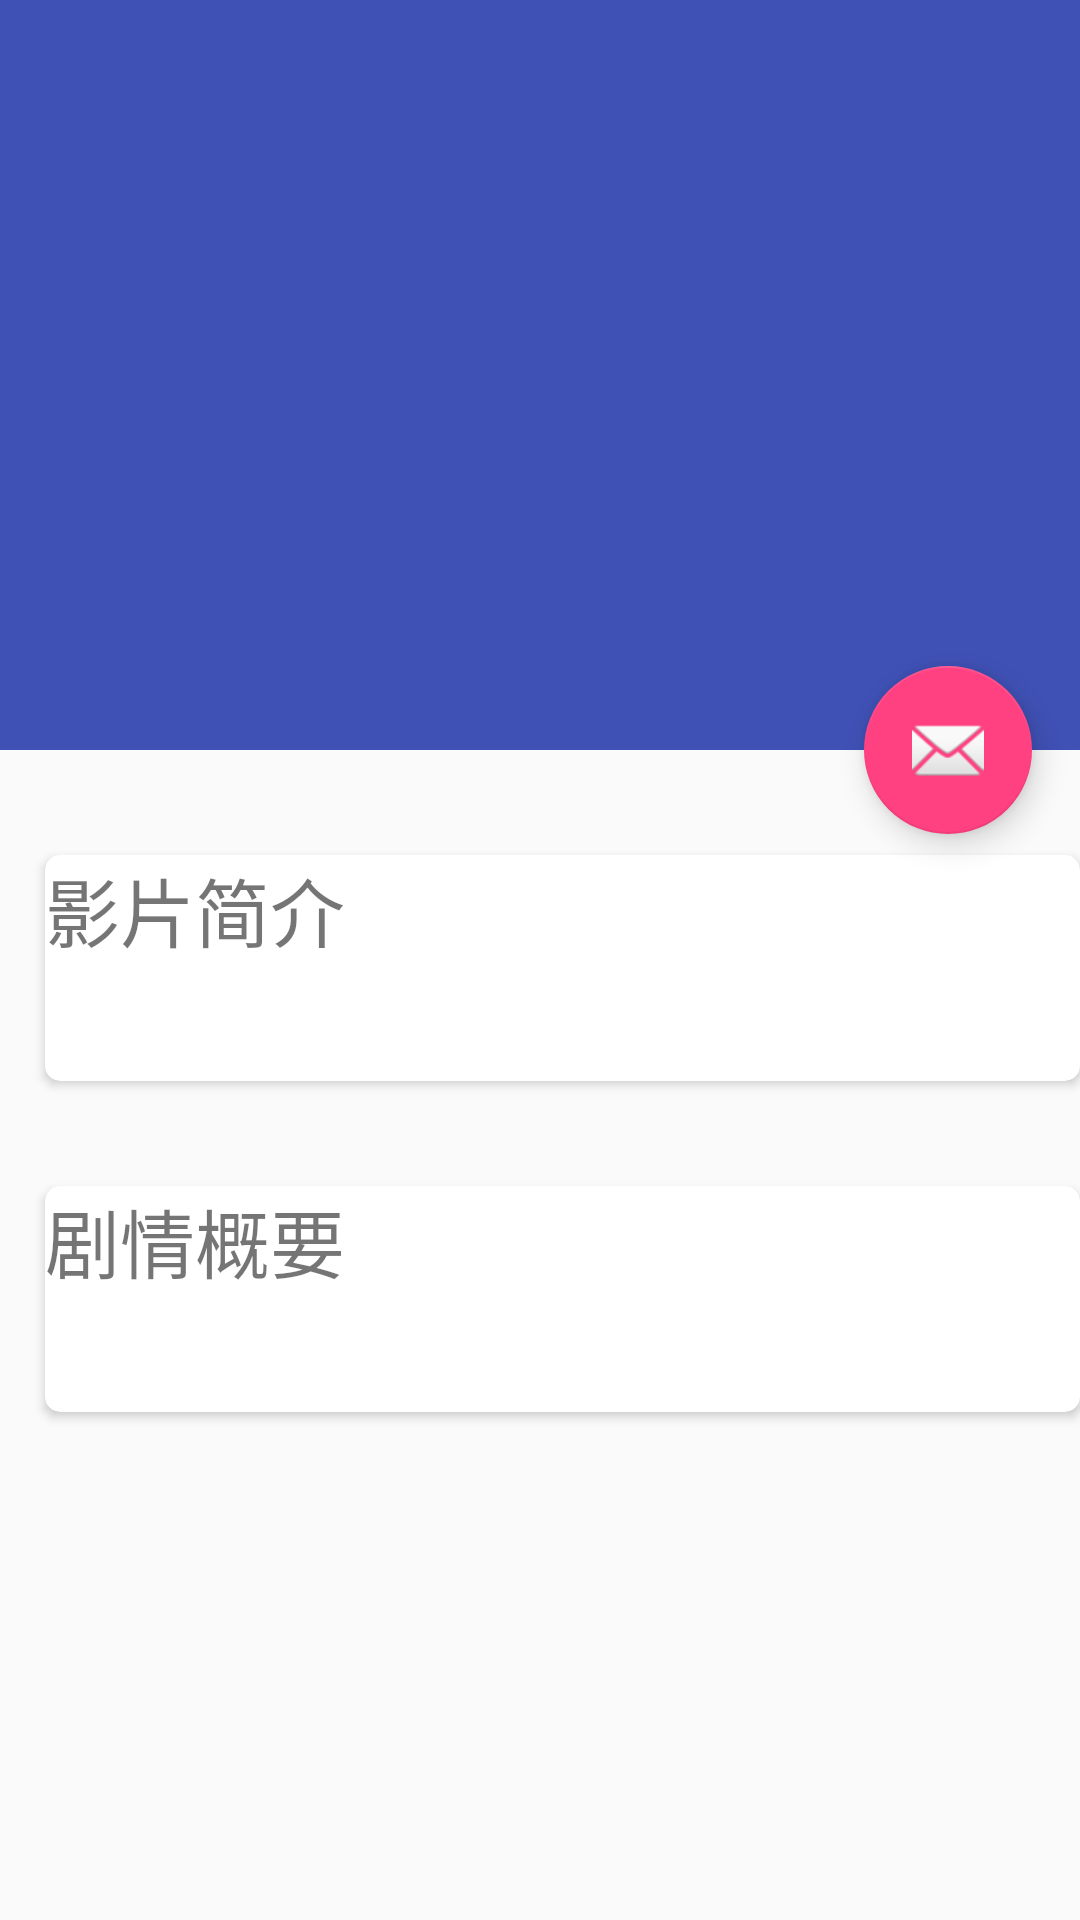

Point at icon controls on the screen. Image size 1080px x 1920px, points as (x,y).
email: (948,750)
